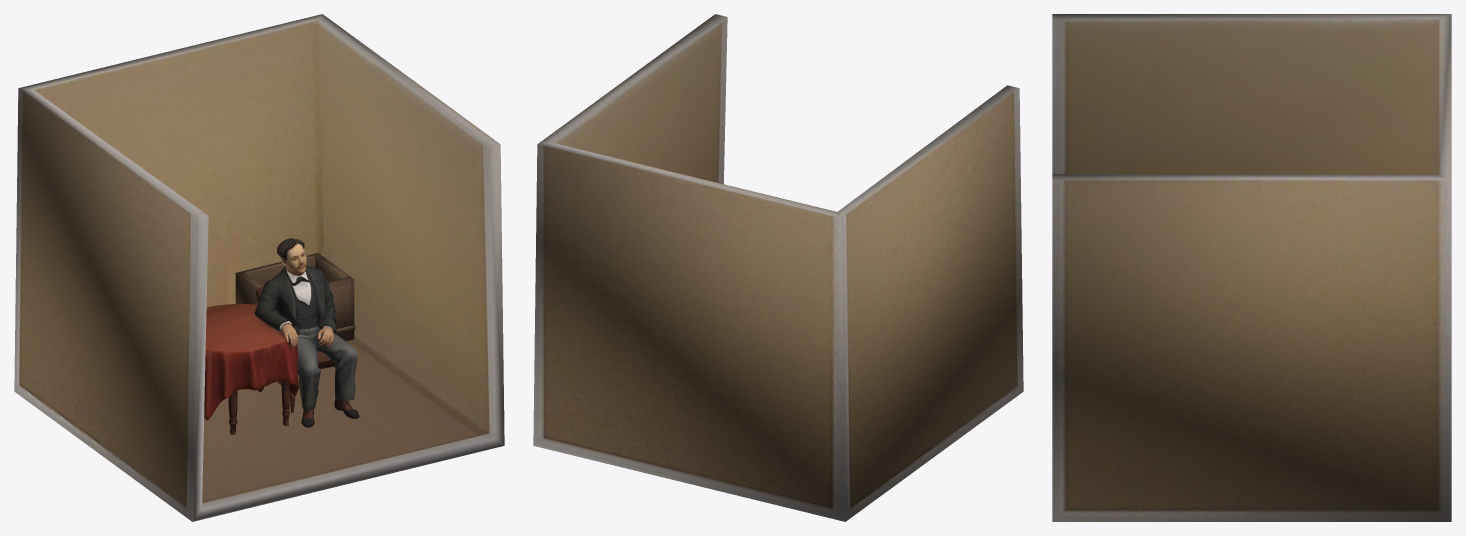
The model's file is crisanto.optimized.glb.
3 renders of one model, left to right at view 1: azimuth 30°, elevation 25°; view 2: azimuth 150°, elevation 25°; view 3: azimuth 270°, elevation 25°, orthographic. The views are drawn at different scales.
Bounding box in the file's own units: 4.07 × 3.77 × 4.02.
2 materials, 2 textured.
